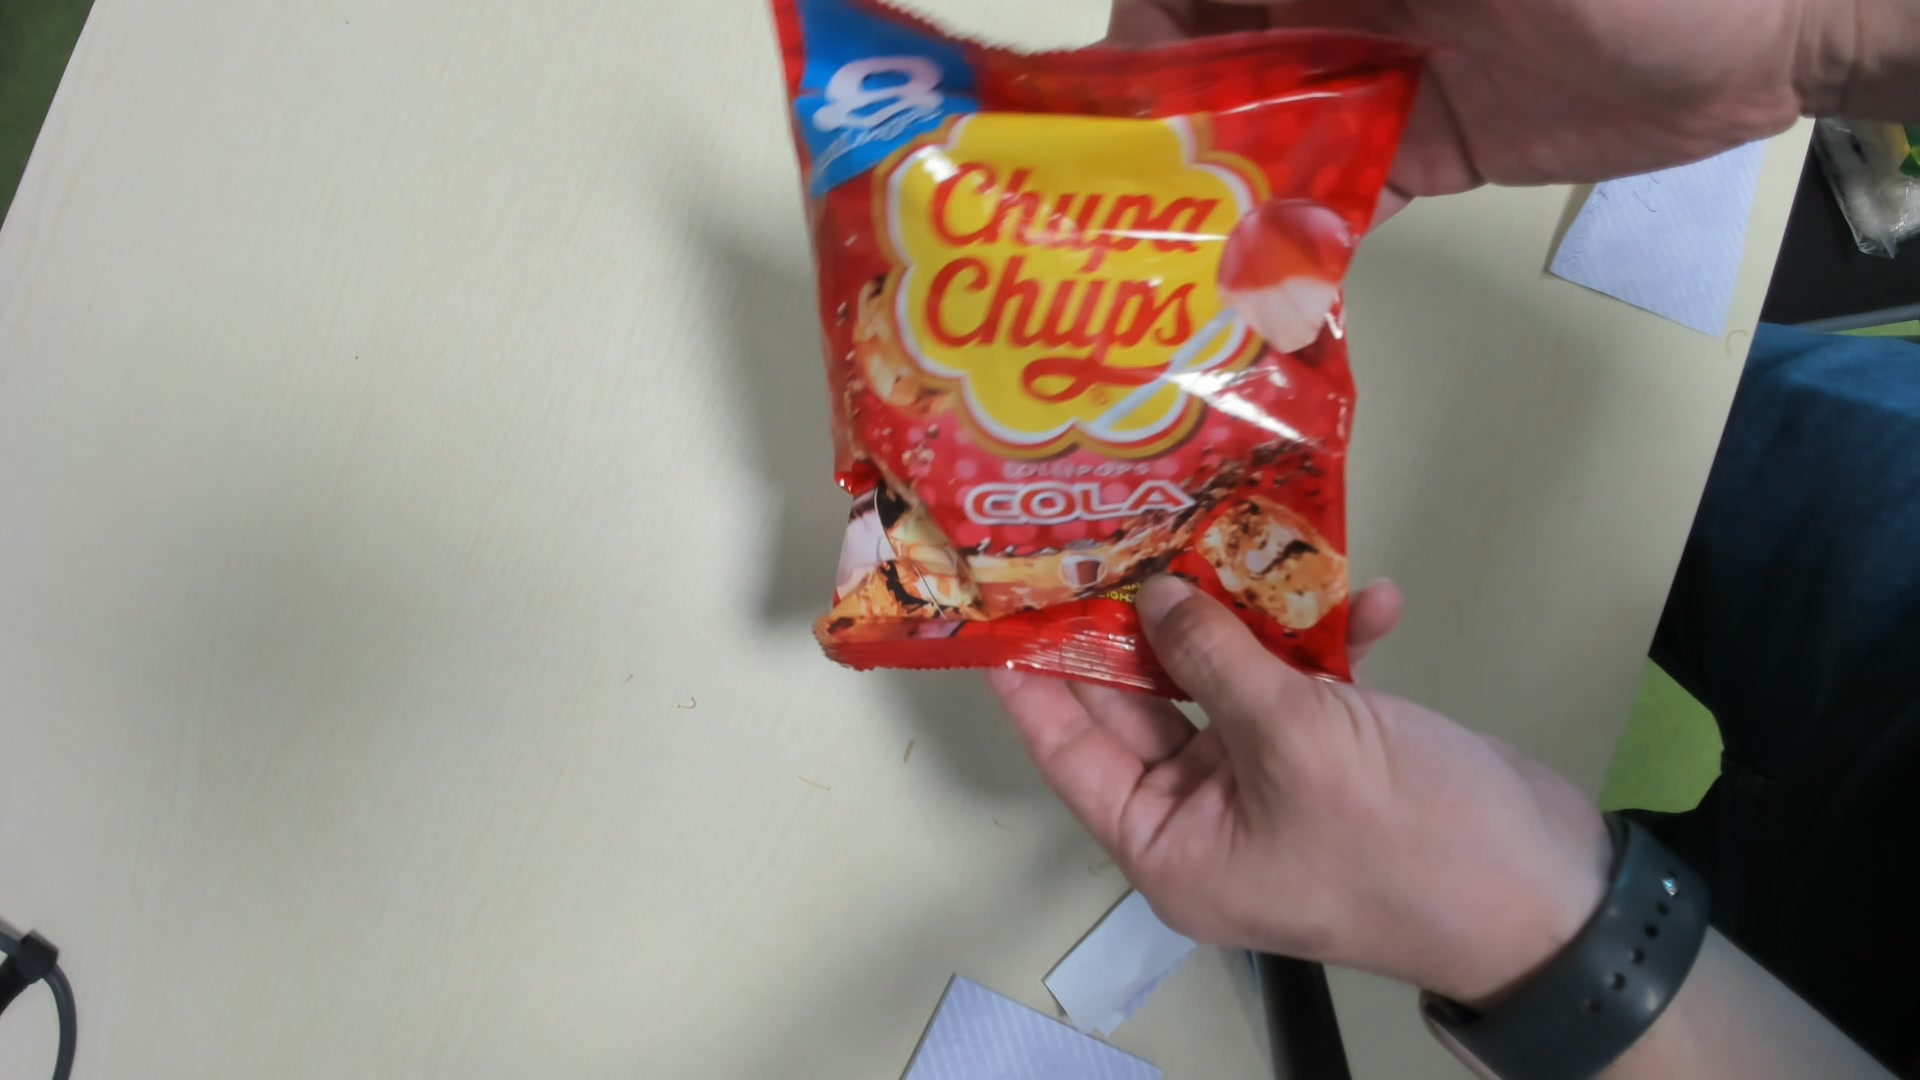SweetsChocolatesOthers_0-99g_NonHalal_Nonhealthy: (770, 1, 1402, 705)
